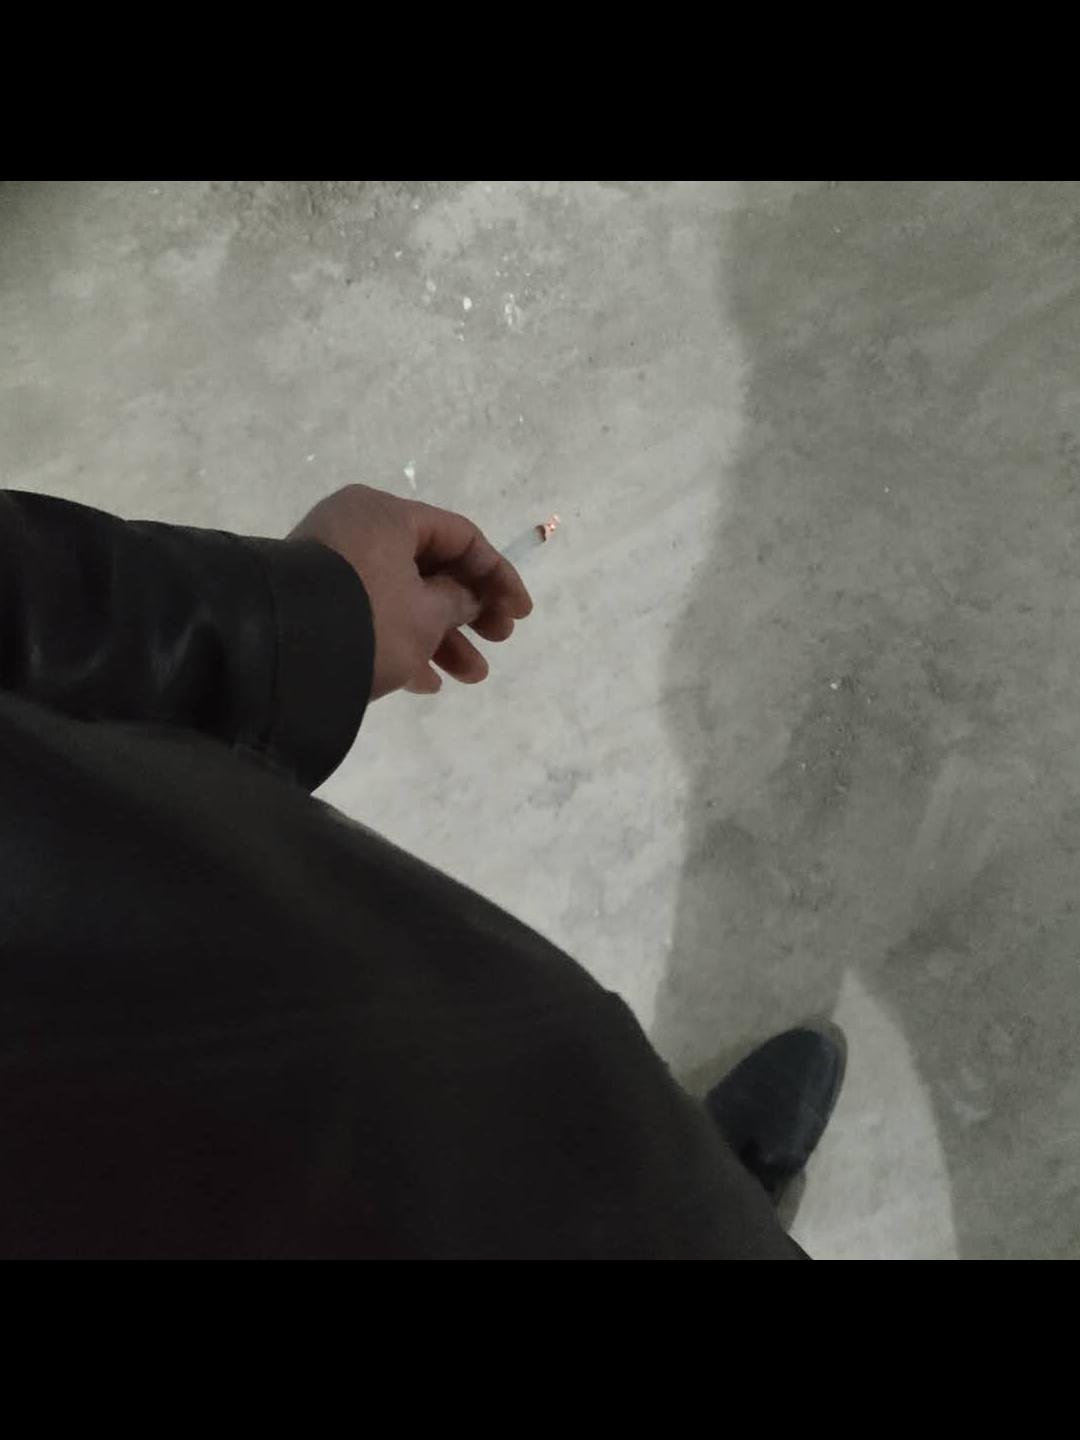Cigarette: (467, 516, 565, 593)
